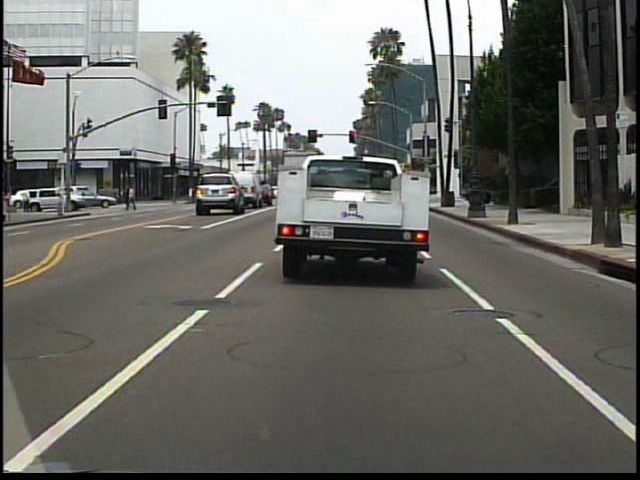person: (22, 185, 35, 215)
